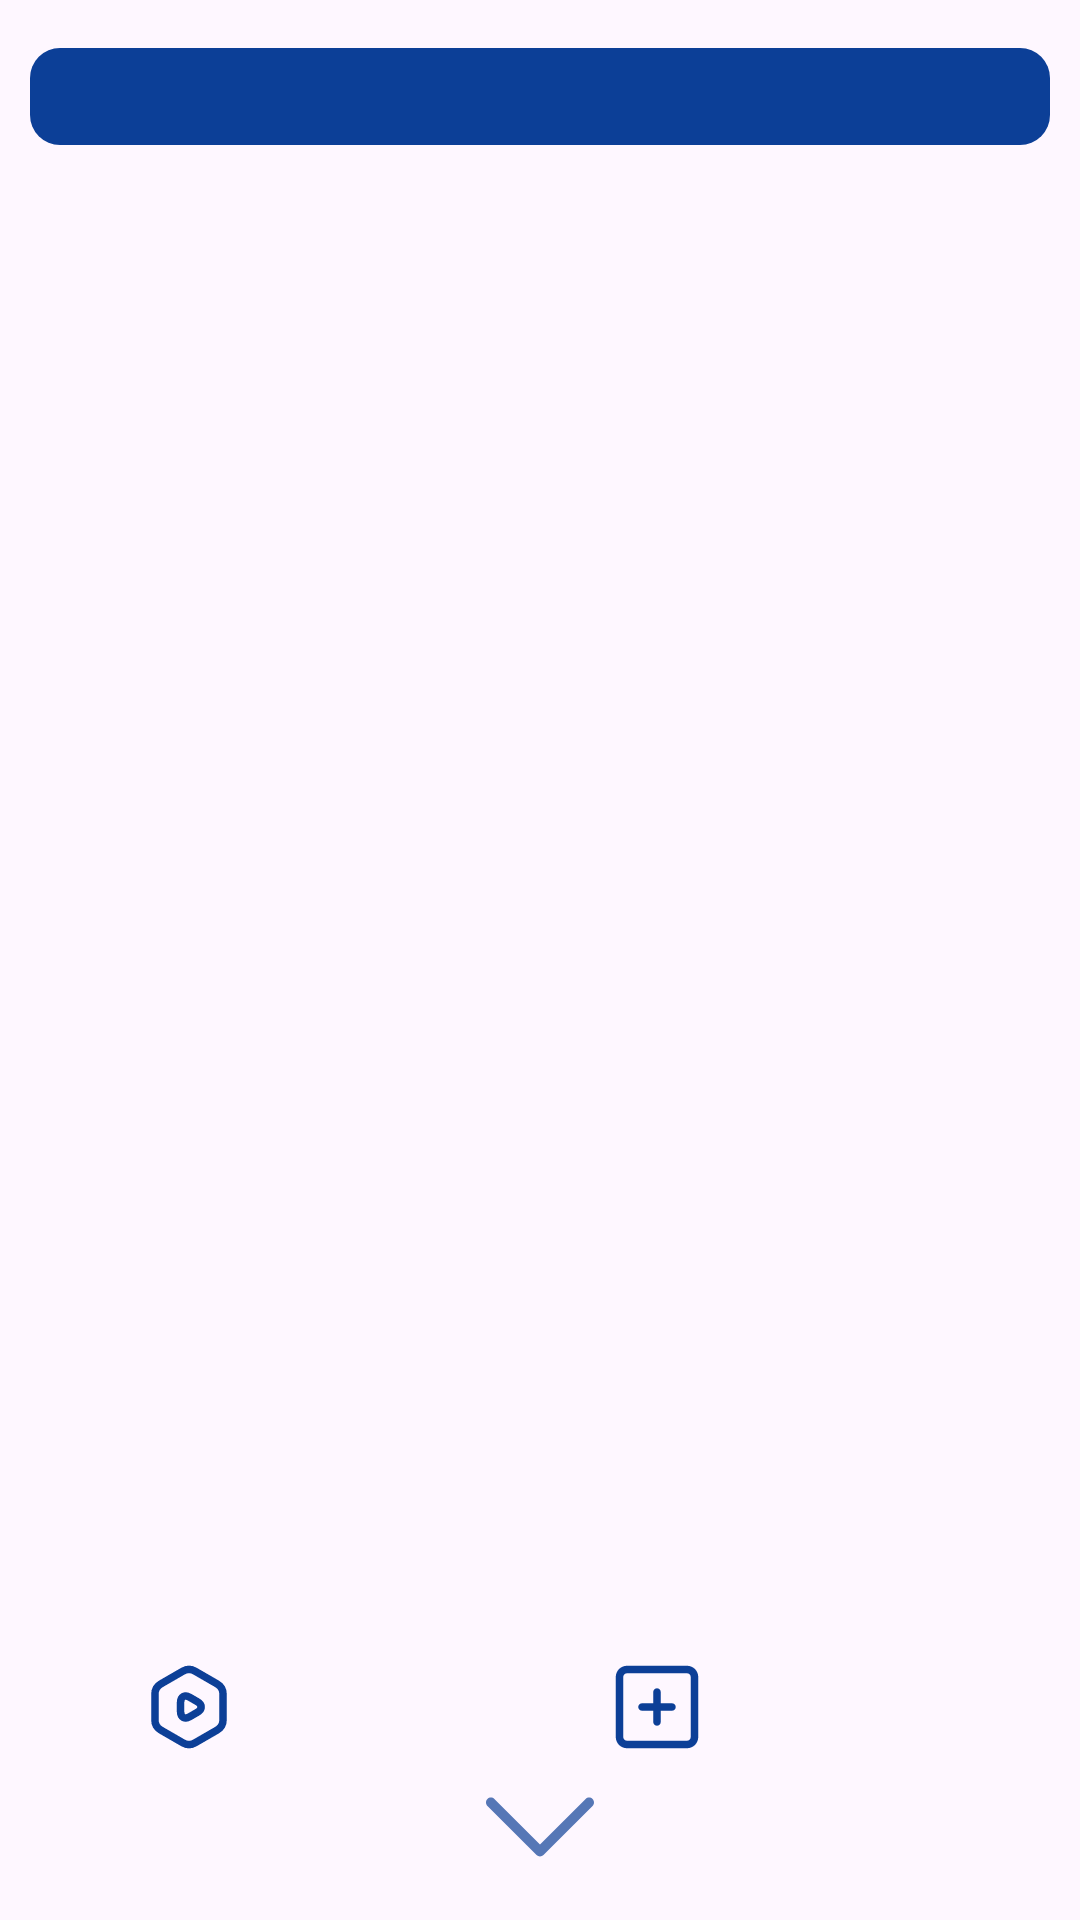

Where to tap for icons on this 1080x1920 app screen, as (x,y):
Add to List: (657,1707)
down: (540,1827)
Play: (189,1707)
